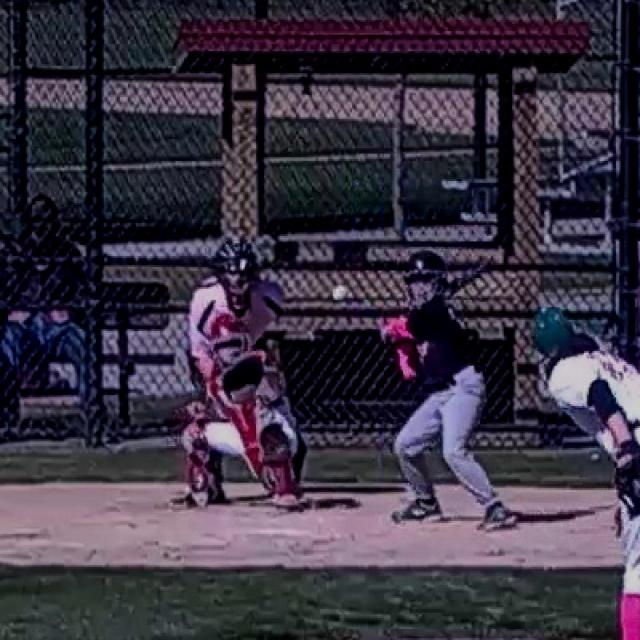baseball: (333, 287, 345, 299)
